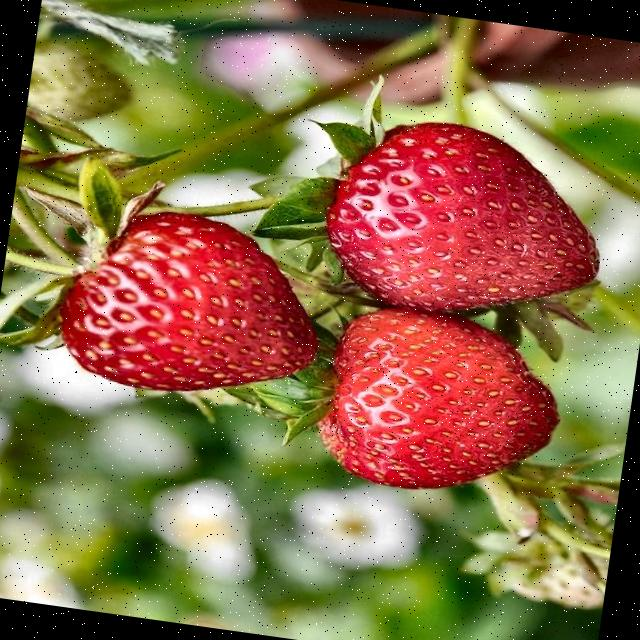strawberry: (328, 122, 598, 310), (60, 213, 317, 390), (318, 307, 558, 488)
